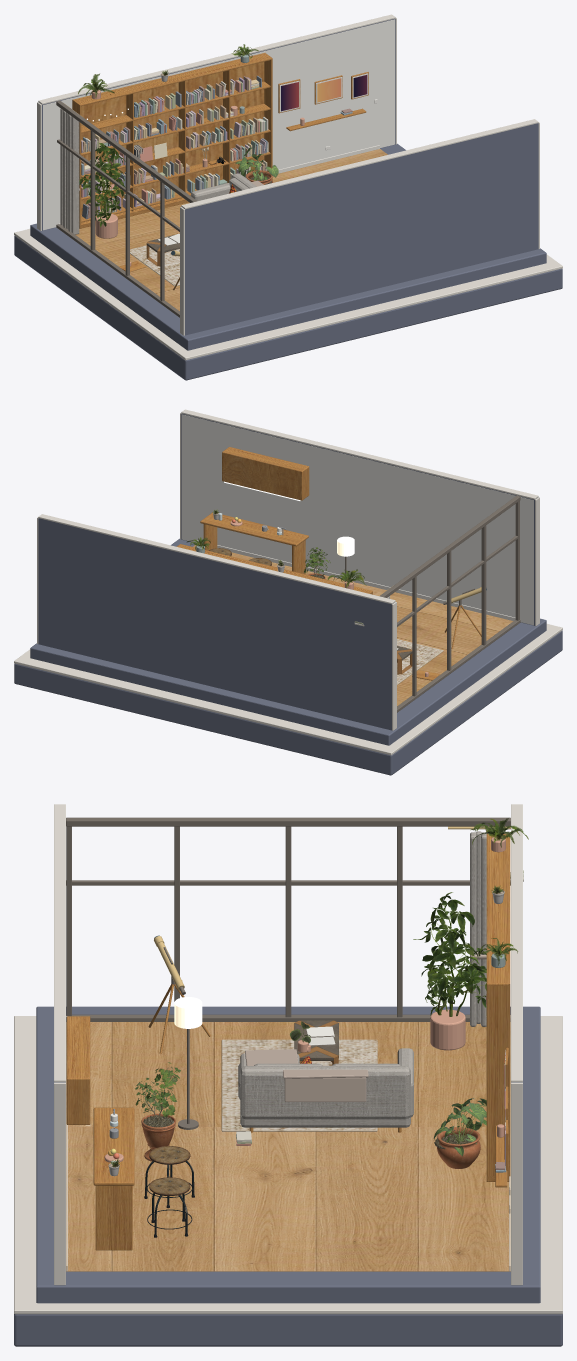
File: apartment.glb
The picture shows the model from 3 angles, top to bottom: view 1: azimuth 30°, elevation 25°; view 2: azimuth 150°, elevation 25°; view 3: azimuth 270°, elevation 25°; orthographic projection. The views are drawn at different scales.
Parts seen in each view (by area): view 1: RM_WallS_Shell, RM_WallN_Inner, RM_Base, F_Shelf_Back, RM_Slab, RM_Rim, RM_Floor, RM_Lip, RM_CutTS, RM_CutTN, F_Shelf_Top, F_Tree_1 (+25 smaller); view 2: RM_WallN_Shell, RM_WallS_Inner, RM_Base, RM_Slab, RM_Rim, RM_Floor, F_Bar_Cab, RM_Lip, RM_CutTS, RM_CutTN, F_Bar_Top, RM_SillT (+12 smaller); view 3: RM_Floor, RM_Rim, RM_Base, RM_Slab, RM_LipE, F_Sofa_Back, RM_SillT, F_Tree_1, F_Rug, F_Shelf_SideR, RM_Lip, RM_CutTS (+30 smaller).
Part boxes in pixels (bbox=[...]): RM_WallS_Shell: bbox=[182, 123, 538, 335]; RM_WallN_Inner: bbox=[43, 19, 394, 230]; RM_Base: bbox=[14, 235, 562, 380]; F_Shelf_Back: bbox=[72, 52, 265, 214]; RM_Slab: bbox=[52, 146, 543, 345]; RM_Rim: bbox=[14, 229, 562, 360]; RM_Floor: bbox=[75, 149, 387, 310]; RM_Lip: bbox=[30, 223, 206, 350]; RM_CutTS: bbox=[181, 119, 538, 209]; RM_CutTN: bbox=[38, 14, 395, 104]; F_Shelf_Top: bbox=[73, 53, 271, 106]; F_Tree_1: bbox=[79, 143, 125, 226]; RM_WallN_Shell: bbox=[38, 518, 394, 730]; RM_WallS_Inner: bbox=[182, 414, 533, 625]; RM_Base: bbox=[14, 630, 562, 775]; RM_Slab: bbox=[33, 540, 542, 744]; RM_Rim: bbox=[14, 624, 562, 755]; RM_Floor: bbox=[193, 545, 513, 705]; F_Bar_Cab: bbox=[222, 447, 309, 500]; RM_Lip: bbox=[370, 619, 546, 745]; RM_CutTS: bbox=[181, 409, 538, 499]; RM_CutTN: bbox=[38, 514, 395, 604]; F_Bar_Top: bbox=[200, 512, 308, 546]; RM_SillT: bbox=[379, 495, 520, 597]; RM_Floor: bbox=[66, 1022, 510, 1271]; RM_Rim: bbox=[14, 1016, 562, 1314]; RM_Base: bbox=[14, 1314, 562, 1346]; RM_Slab: bbox=[36, 1009, 540, 1283]; RM_LipE: bbox=[36, 1271, 540, 1303]; F_Sofa_Back: bbox=[240, 1066, 410, 1119]; RM_SillT: bbox=[66, 817, 510, 826]; F_Tree_1: bbox=[413, 892, 486, 1015]; F_Rug: bbox=[221, 1039, 377, 1131]; F_Shelf_SideR: bbox=[486, 983, 509, 1181]; RM_Lip: bbox=[36, 1006, 540, 1021]; RM_CutTS: bbox=[54, 804, 65, 1082].
Size of the model in its own units: 9.4 by 4.24 by 7.4.
Materials: 71 (35 with a texture image).
